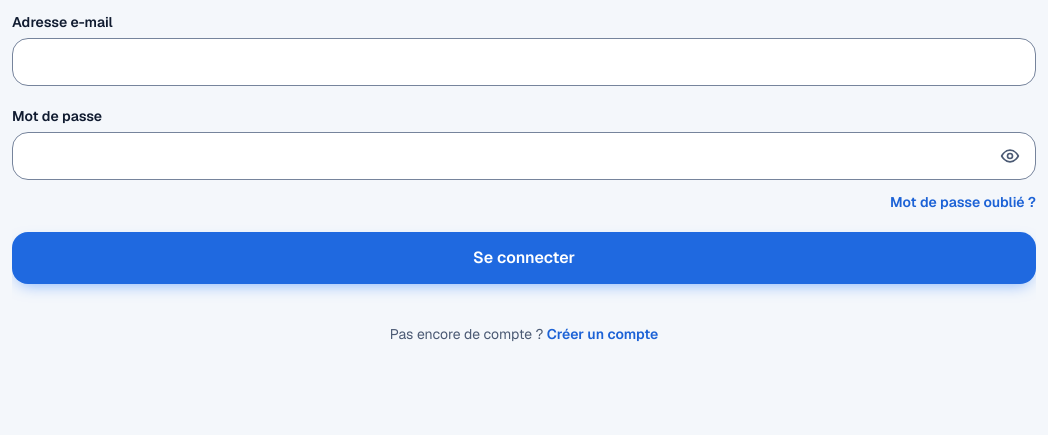
Test: Supabase configuré › gère une coupure réseau sans perdre la saisie
The image size is (1048, 435).
Step 1. Type "prenom@domaine.fr" into the field labelled "Adresse e-mail" → (524, 62), box left=12, top=38, right=1036, bottom=86
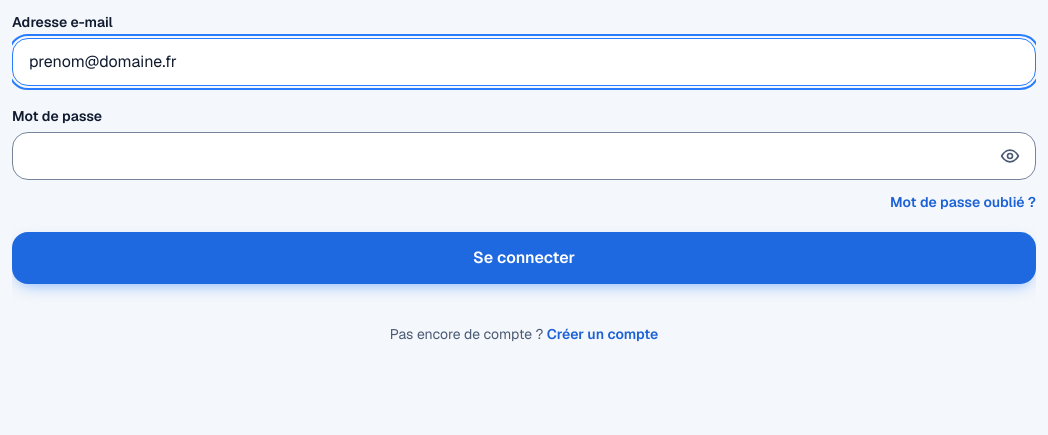
Step 2. Type "secret123" into the password field labelled "Mot de passe" → (524, 156), box left=12, top=132, right=1036, bottom=180
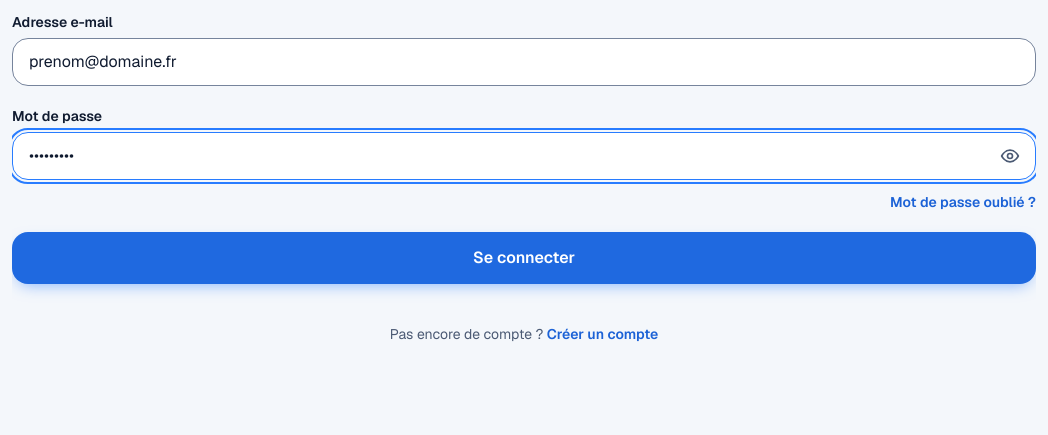
Step 3. Click the button "Se connecter" → (524, 258), box left=12, top=232, right=1036, bottom=284
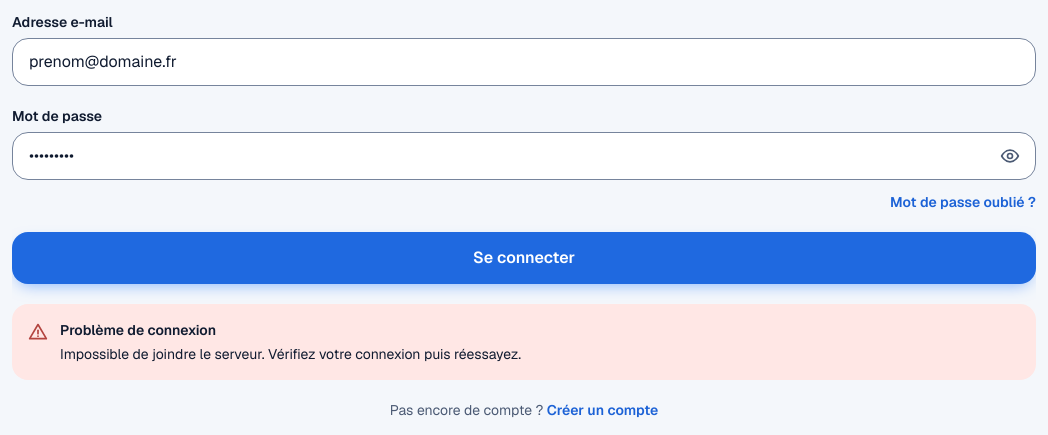
Expected: the text "Problème de connexion" is shown, left=60, top=321, right=216, bottom=339
